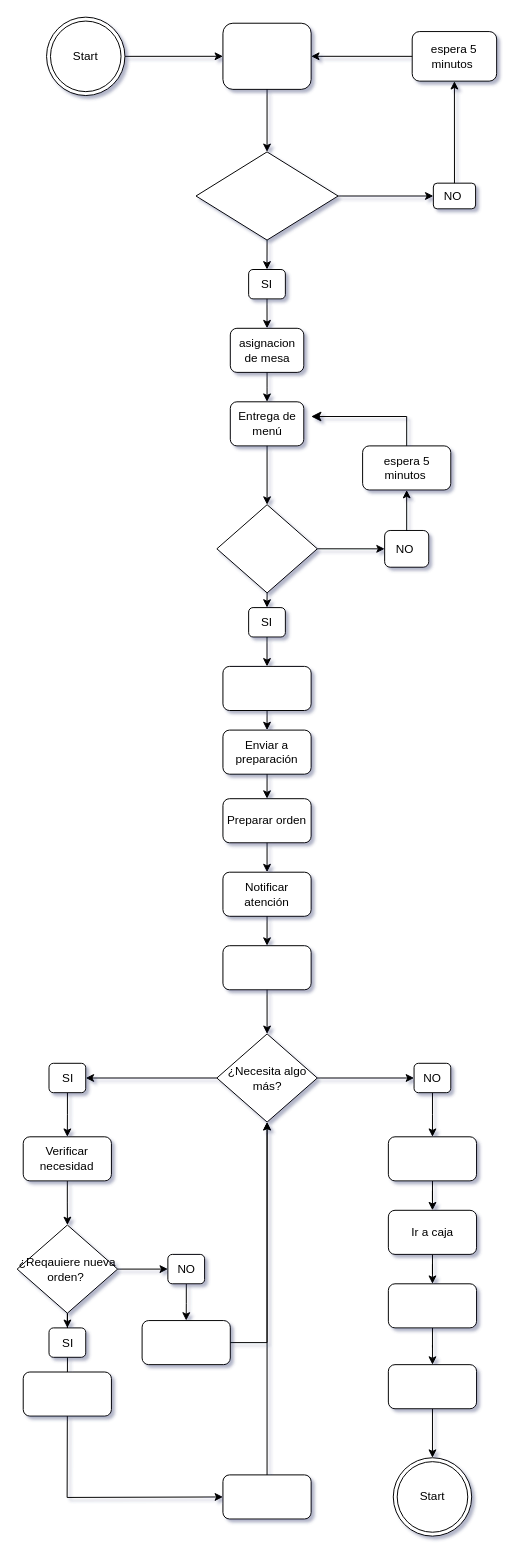
Some shapes in this 520 by 1559 pixel diagram are drawn without their labels. Each missing label, with the centre of its shape:
"Atender solucitud" belongs at (185,1342).
"Limpiar mesa" belongs at (432,1386).
"Llevar nueva orden" belongs at (266,1496).
"Llevar orden" belongs at (266,967).
"Pagar" belongs at (432,1305).
"Recepción." belongs at (266,55).
"Repetir priceso de preparación" belongs at (66,1393).
"Terminar consumo" belongs at (432,1158).
"Tomar orden." belongs at (266,687).
"¿Listo para ordenar?" belongs at (266,548).
"¿Lugares disponibles?" belongs at (266,195).
